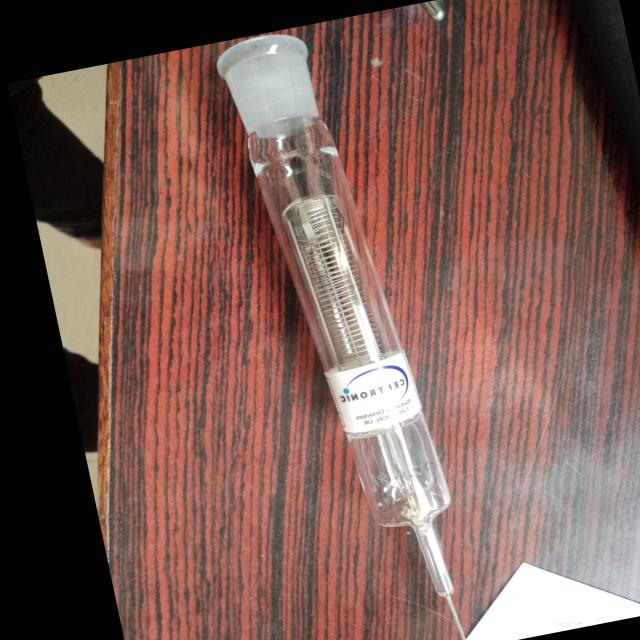Helium Lamp: (201, 15, 490, 640)
